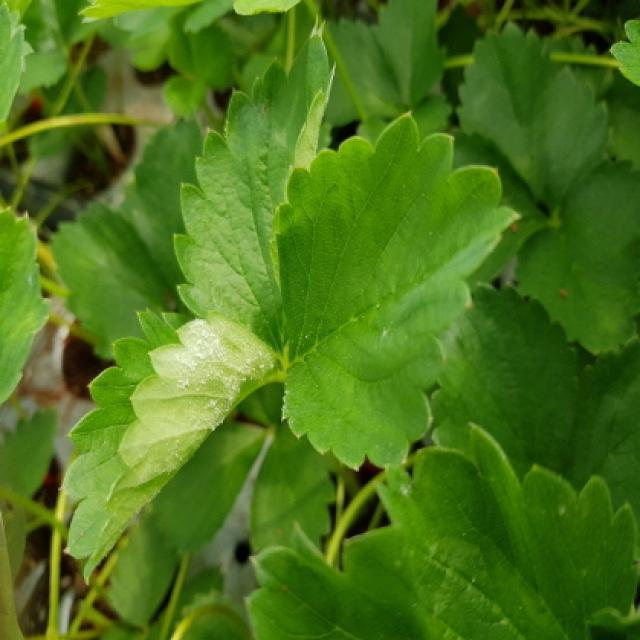powdery_mildew_leaf: (57, 309, 285, 585)
